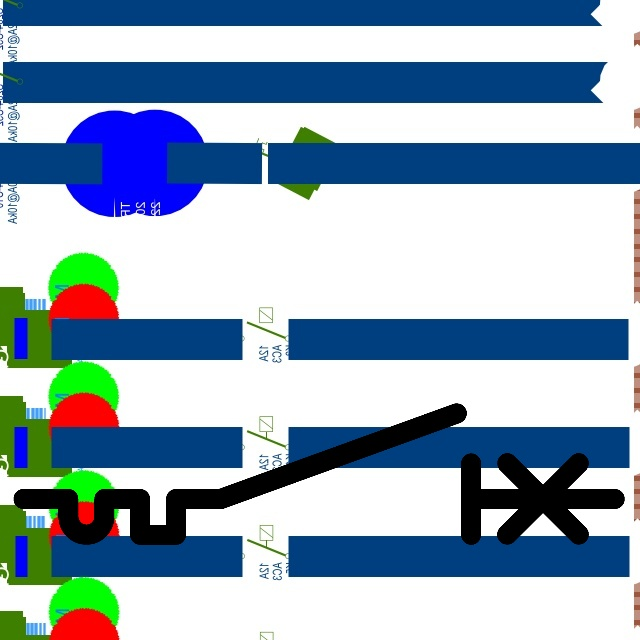interruptor_termomagnetico: (8, 398, 630, 550)
